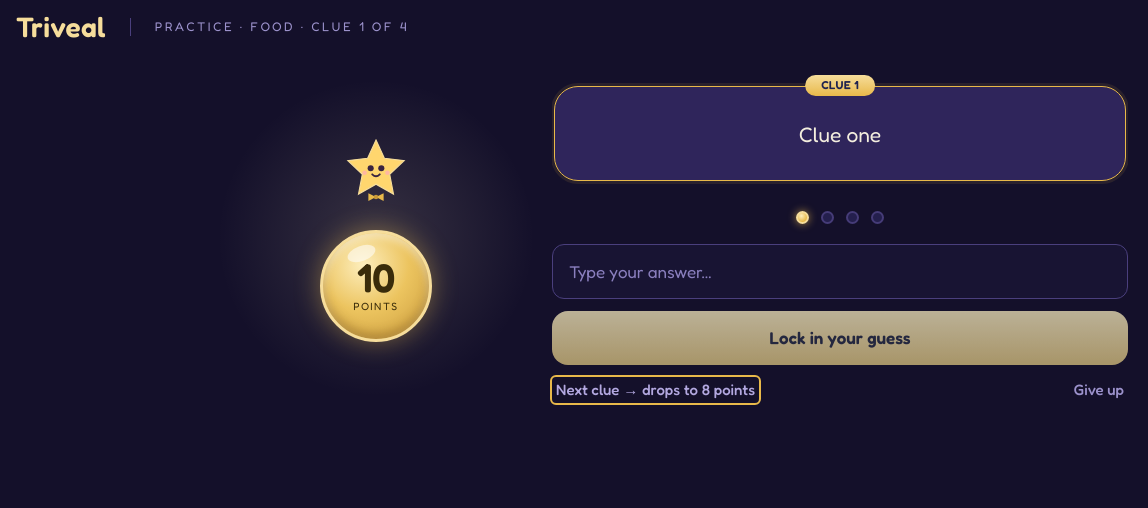
Test: Game keyboard play › puts the caret back after skipping to the next clue
Click the button "Next clue → drops to 8 points" at (656, 390), box [552,376,759,403]
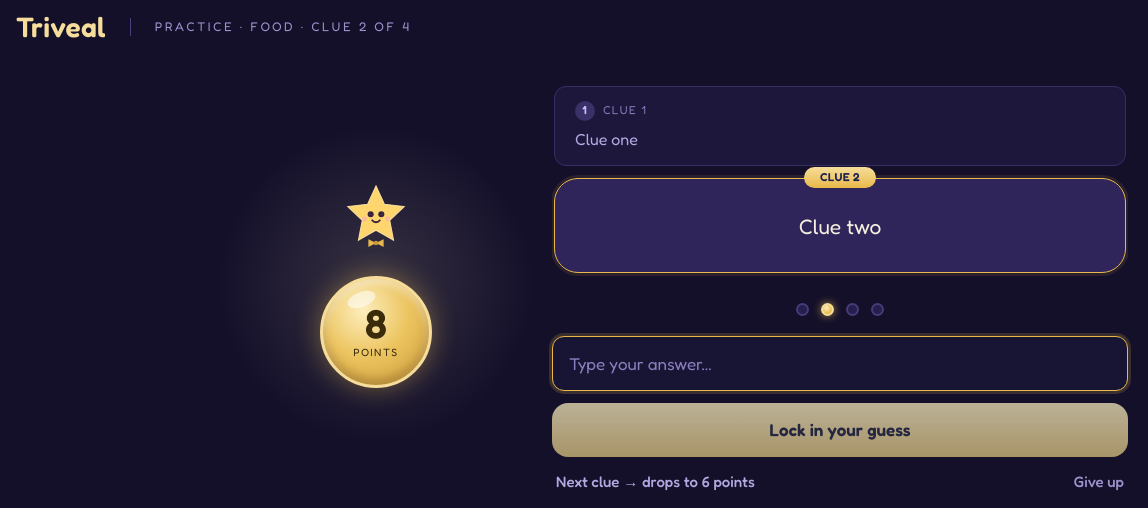
Expected: the text "Clue two" is shown, [799,214,881,239]
